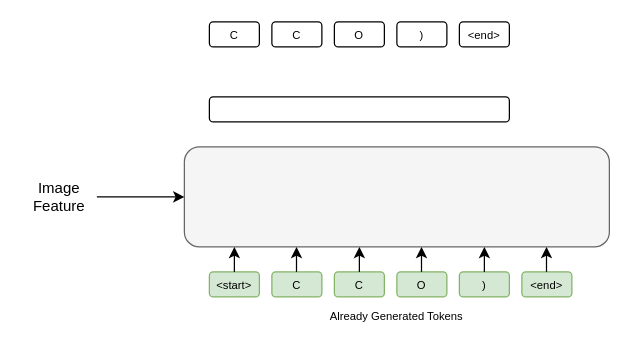
The diagram is 631 pixels wide and 356 high, and some of its shapes have lost their labels. Each missing label, with the box of its shape:
Autoregressive Decoder: (183, 146, 609, 247)
Token Output Projection: (208, 96, 509, 122)
